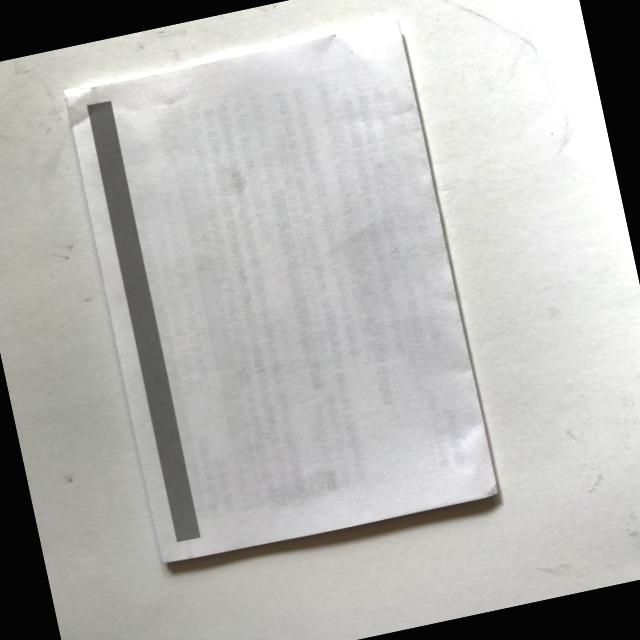Paper: (52, 11, 512, 572)
